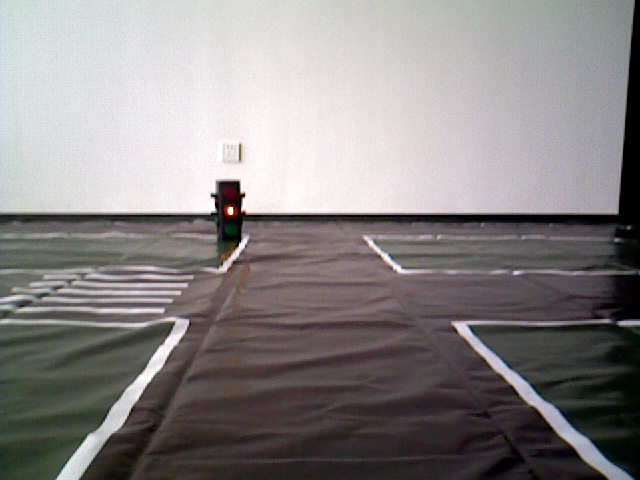yellow: (215, 179, 242, 240)
